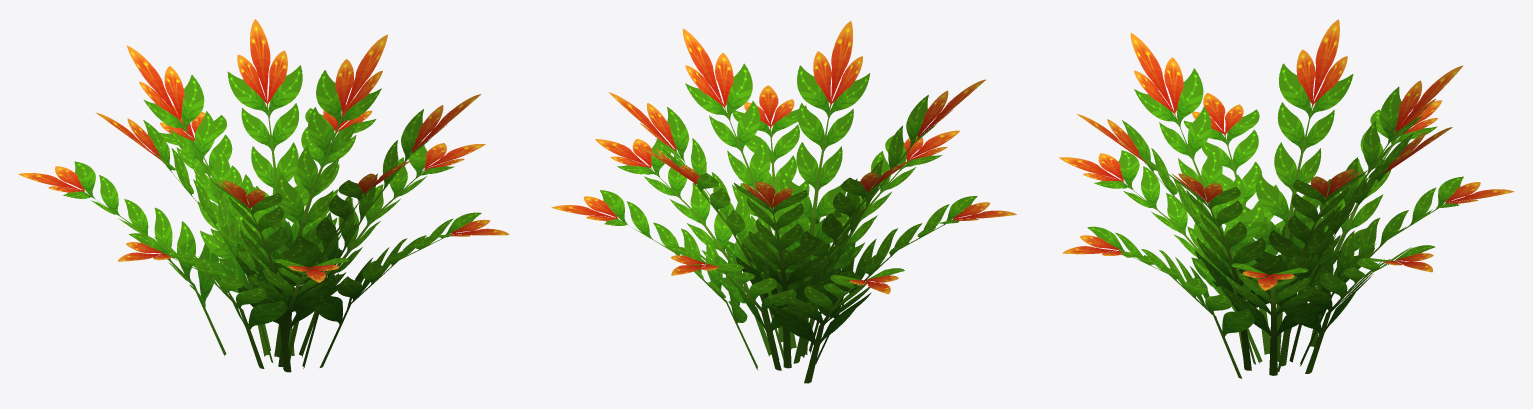
Rendered from Bush_04.FBX.
3 views of the same model, side by side, from view 1: azimuth 30°, elevation 25°; view 2: azimuth 150°, elevation 25°; view 3: azimuth 270°, elevation 25° (orthographic). The views are drawn at different scales.
Parts seen in each view (by area): view 1: Bush_04; view 2: Bush_04; view 3: Bush_04.
Part boxes in pixels (box(x1,y1,x2,y2)): Bush_04: box(18, 19, 509, 372); Bush_04: box(551, 21, 1016, 383); Bush_04: box(1059, 19, 1514, 378).
Bounding box in the file's own units: 0.7422 × 0.4745 × 0.7285.
